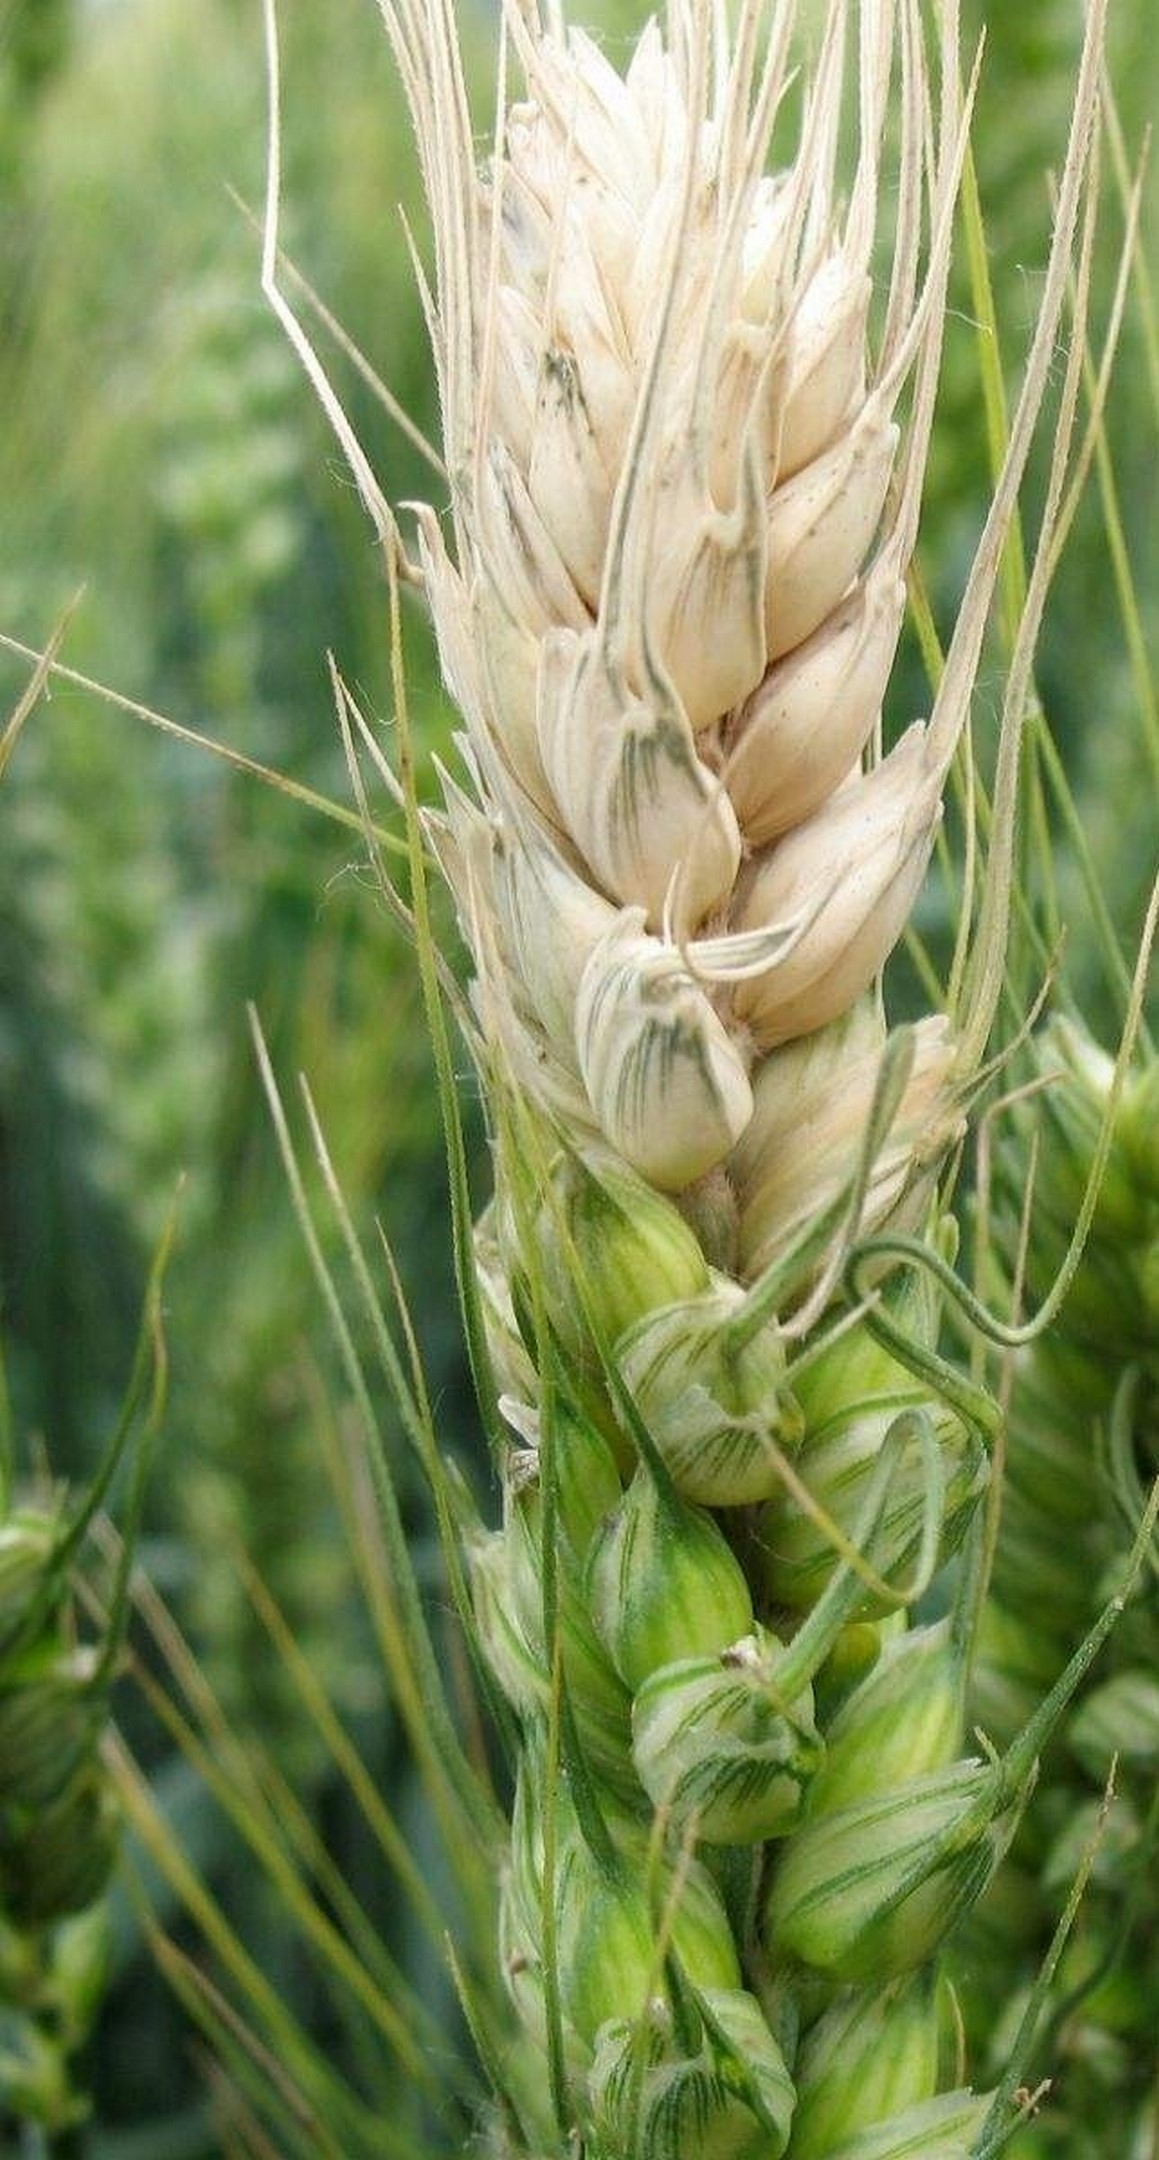Wheat scab: (342, 124, 992, 2160)
